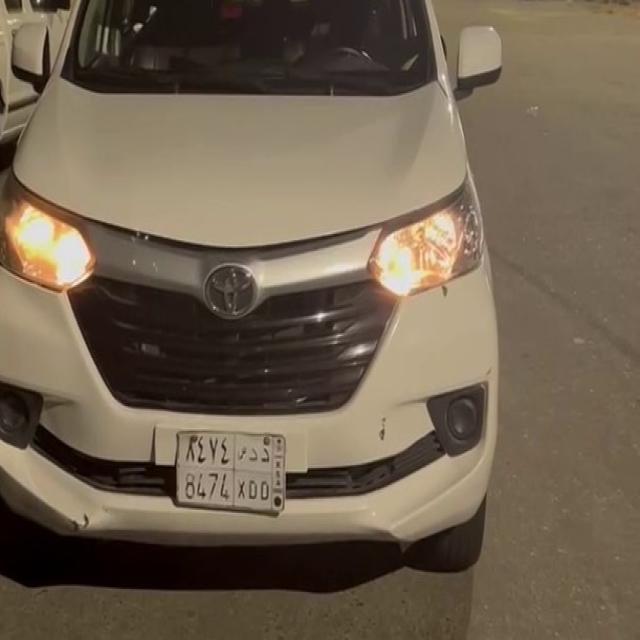Car-plate: (169, 416, 293, 521)
